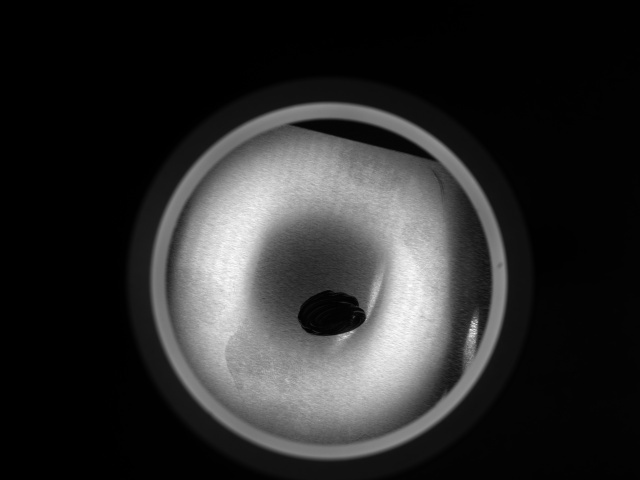zang_wu: (293, 288, 369, 337)
